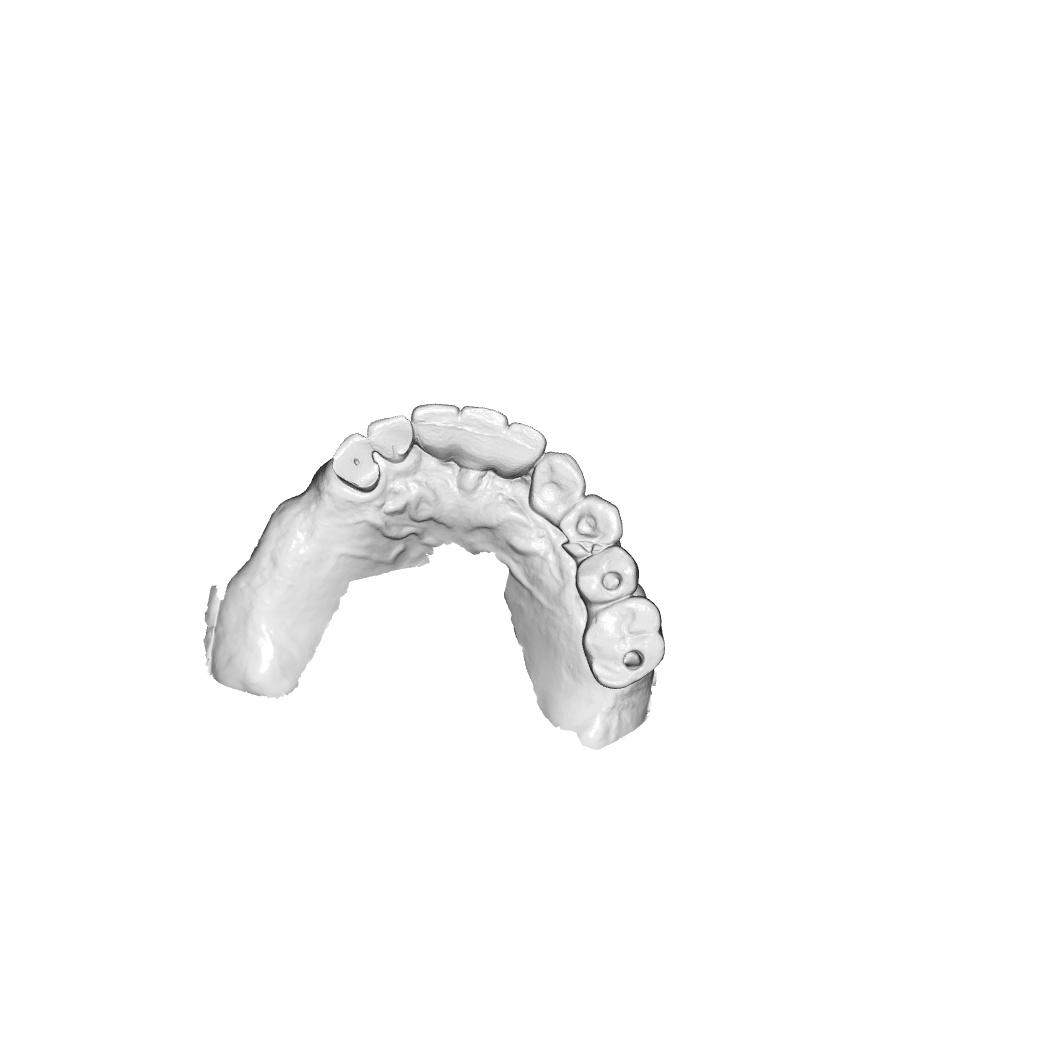canine: (527, 451, 587, 517), (330, 432, 381, 493)
incisor: (459, 405, 508, 473), (493, 421, 548, 480), (411, 402, 460, 465), (366, 414, 414, 465)
molar: (581, 594, 667, 691)
premolar: (558, 492, 625, 559), (574, 543, 640, 607)
